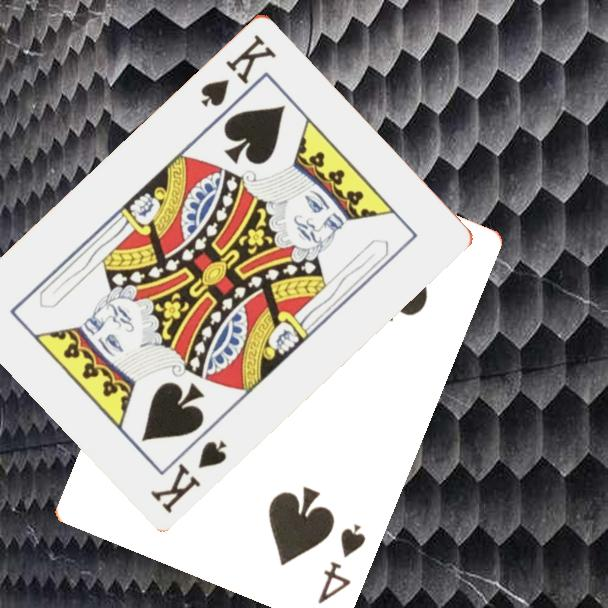s04: (313, 519, 369, 606)
s13: (146, 436, 230, 516), (197, 30, 280, 110)
